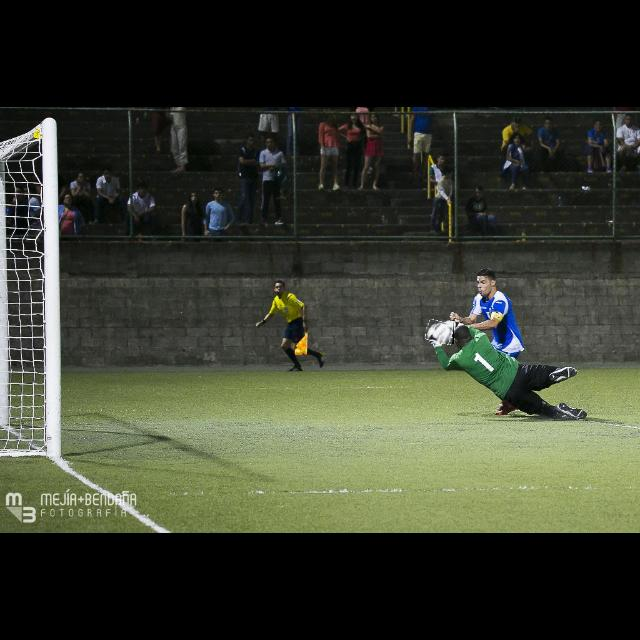Football: (426, 320, 454, 344)
